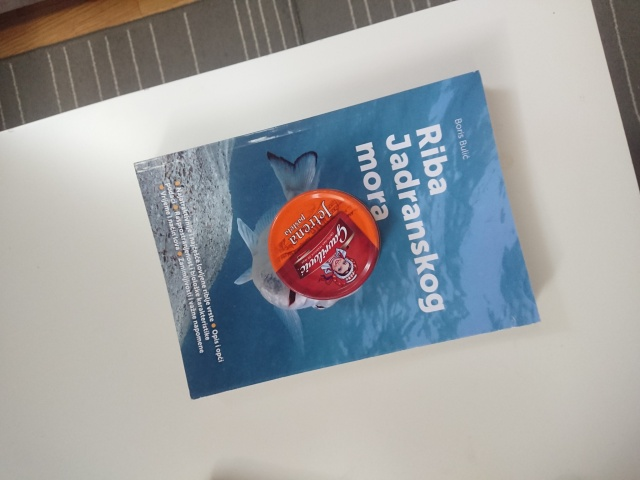Gavrilovic Pork Liver Pate 100g: (265, 185, 384, 303)
